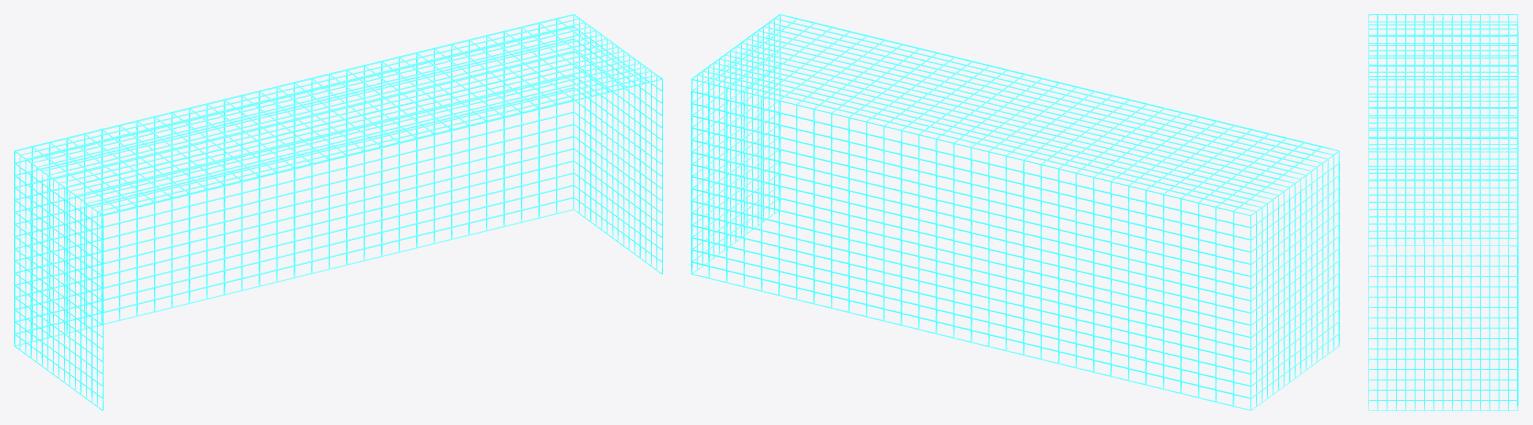
File: Porteria.fbx
3 renders of one model, left to right at view 1: azimuth 30°, elevation 25°; view 2: azimuth 150°, elevation 25°; view 3: azimuth 270°, elevation 25°, orthographic. The views are drawn at different scales.
Parts seen in each view (by area): view 1: Net; view 2: Net; view 3: Net.
Part boxes in pixels (x1,y1,x2,y2): Net: (14, 14, 662, 410); Net: (691, 14, 1339, 410); Net: (1368, 14, 1518, 410).
Bounding box in the file's own units: 733 × 245 × 201.
